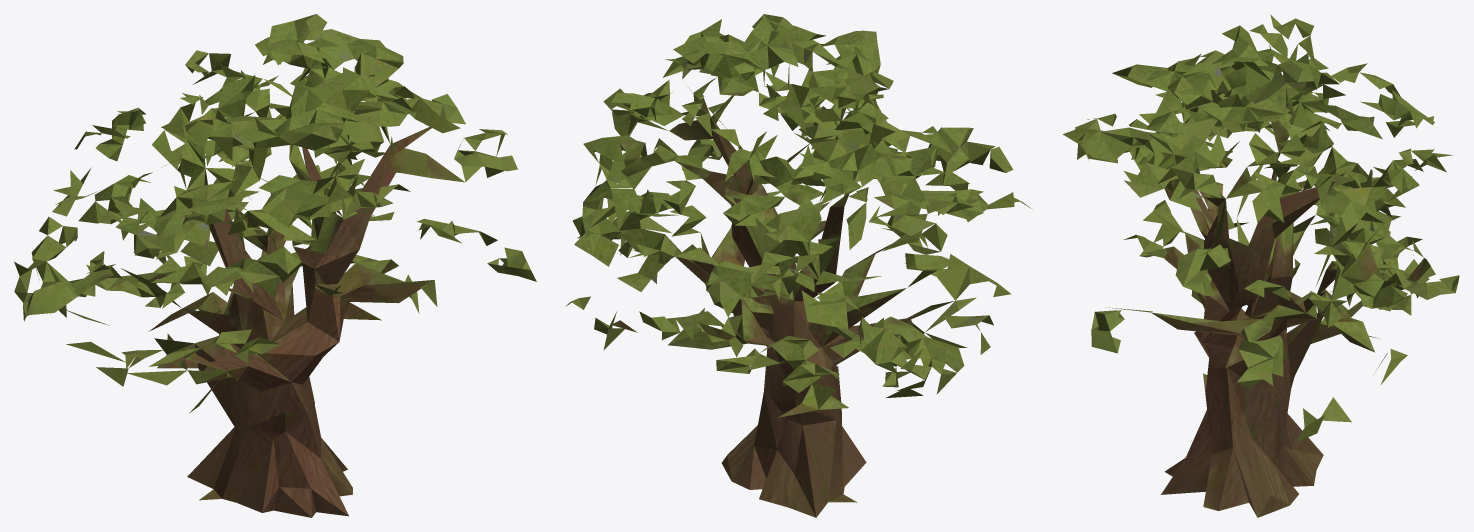
The model's file is oak.glb.
The picture shows the model from 3 angles, left to right: view 1: azimuth 30°, elevation 25°; view 2: azimuth 150°, elevation 25°; view 3: azimuth 270°, elevation 25°; orthographic projection.
Bounding box in the file's own units: 1.64 × 1.67 × 1.33.
Materials: 1 (1 with a texture image).
